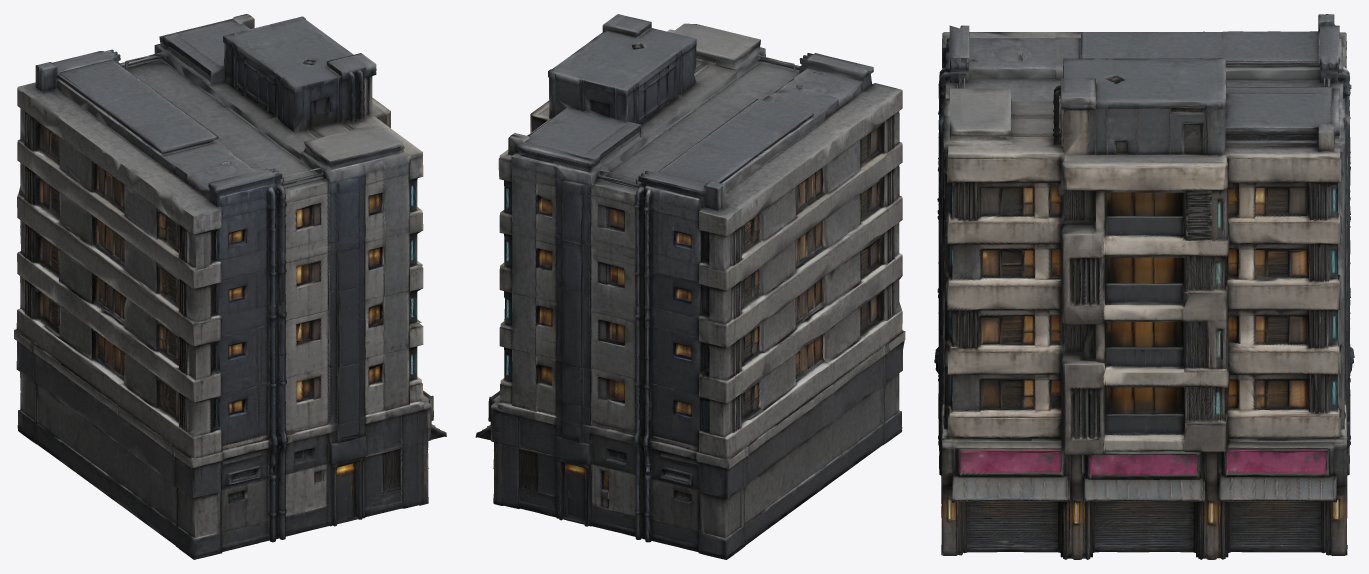
Rendered from kairox-market-block.glb.
3 renders of one model, left to right at view 1: azimuth 30°, elevation 25°; view 2: azimuth 150°, elevation 25°; view 3: azimuth 270°, elevation 25°, orthographic. The views are drawn at different scales.
Visible parts, largest first — view 1: kairox-market-block; view 2: kairox-market-block; view 3: kairox-market-block.
Part boxes in pixels (left/top/right/bottom): kairox-market-block: left=14, top=14, right=446, bottom=559; kairox-market-block: left=475, top=14, right=905, bottom=559; kairox-market-block: left=934, top=14, right=1354, bottom=559.
Size of the model in its own units: 16.32 by 24 by 19.91.
1 material, 1 textured.
